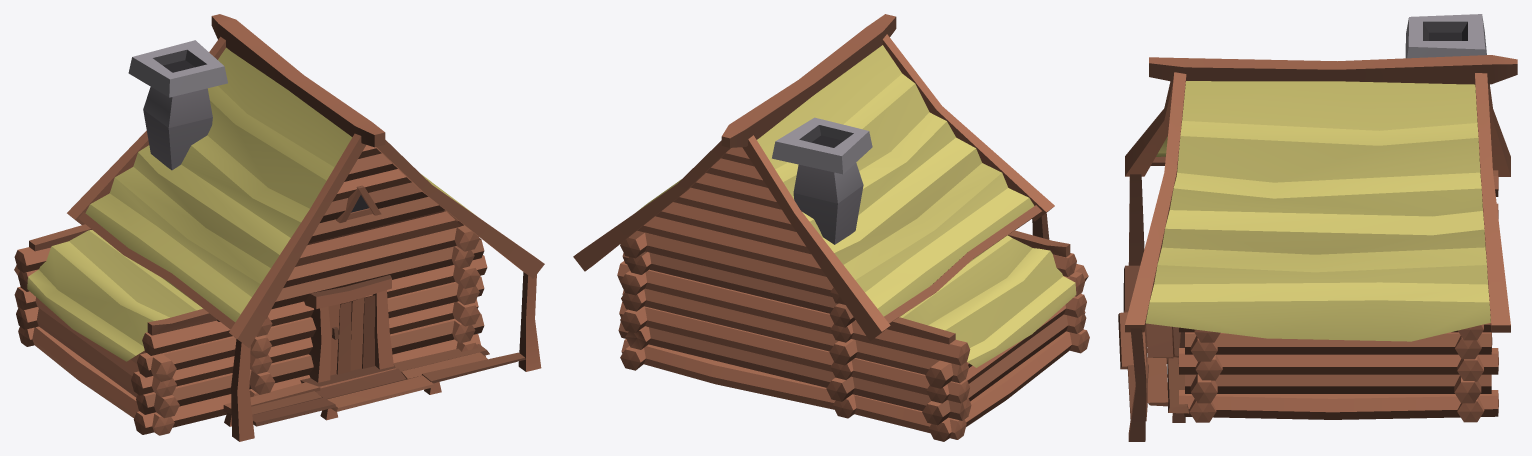
The model's file is House_1.fbx.
3 renders of one model, left to right at view 1: azimuth 30°, elevation 25°; view 2: azimuth 150°, elevation 25°; view 3: azimuth 270°, elevation 25°, orthographic. The views are drawn at different scales.
Parts seen in each view (by area): view 1: House_1; view 2: House_1; view 3: House_1.
Part boxes in pixels (x1,y1,x2,y2): House_1: [14, 14, 544, 441]; House_1: [573, 14, 1089, 441]; House_1: [1118, 14, 1517, 441].
Bounding box in the file's own units: 0.1089 × 0.0729 × 0.0885.
